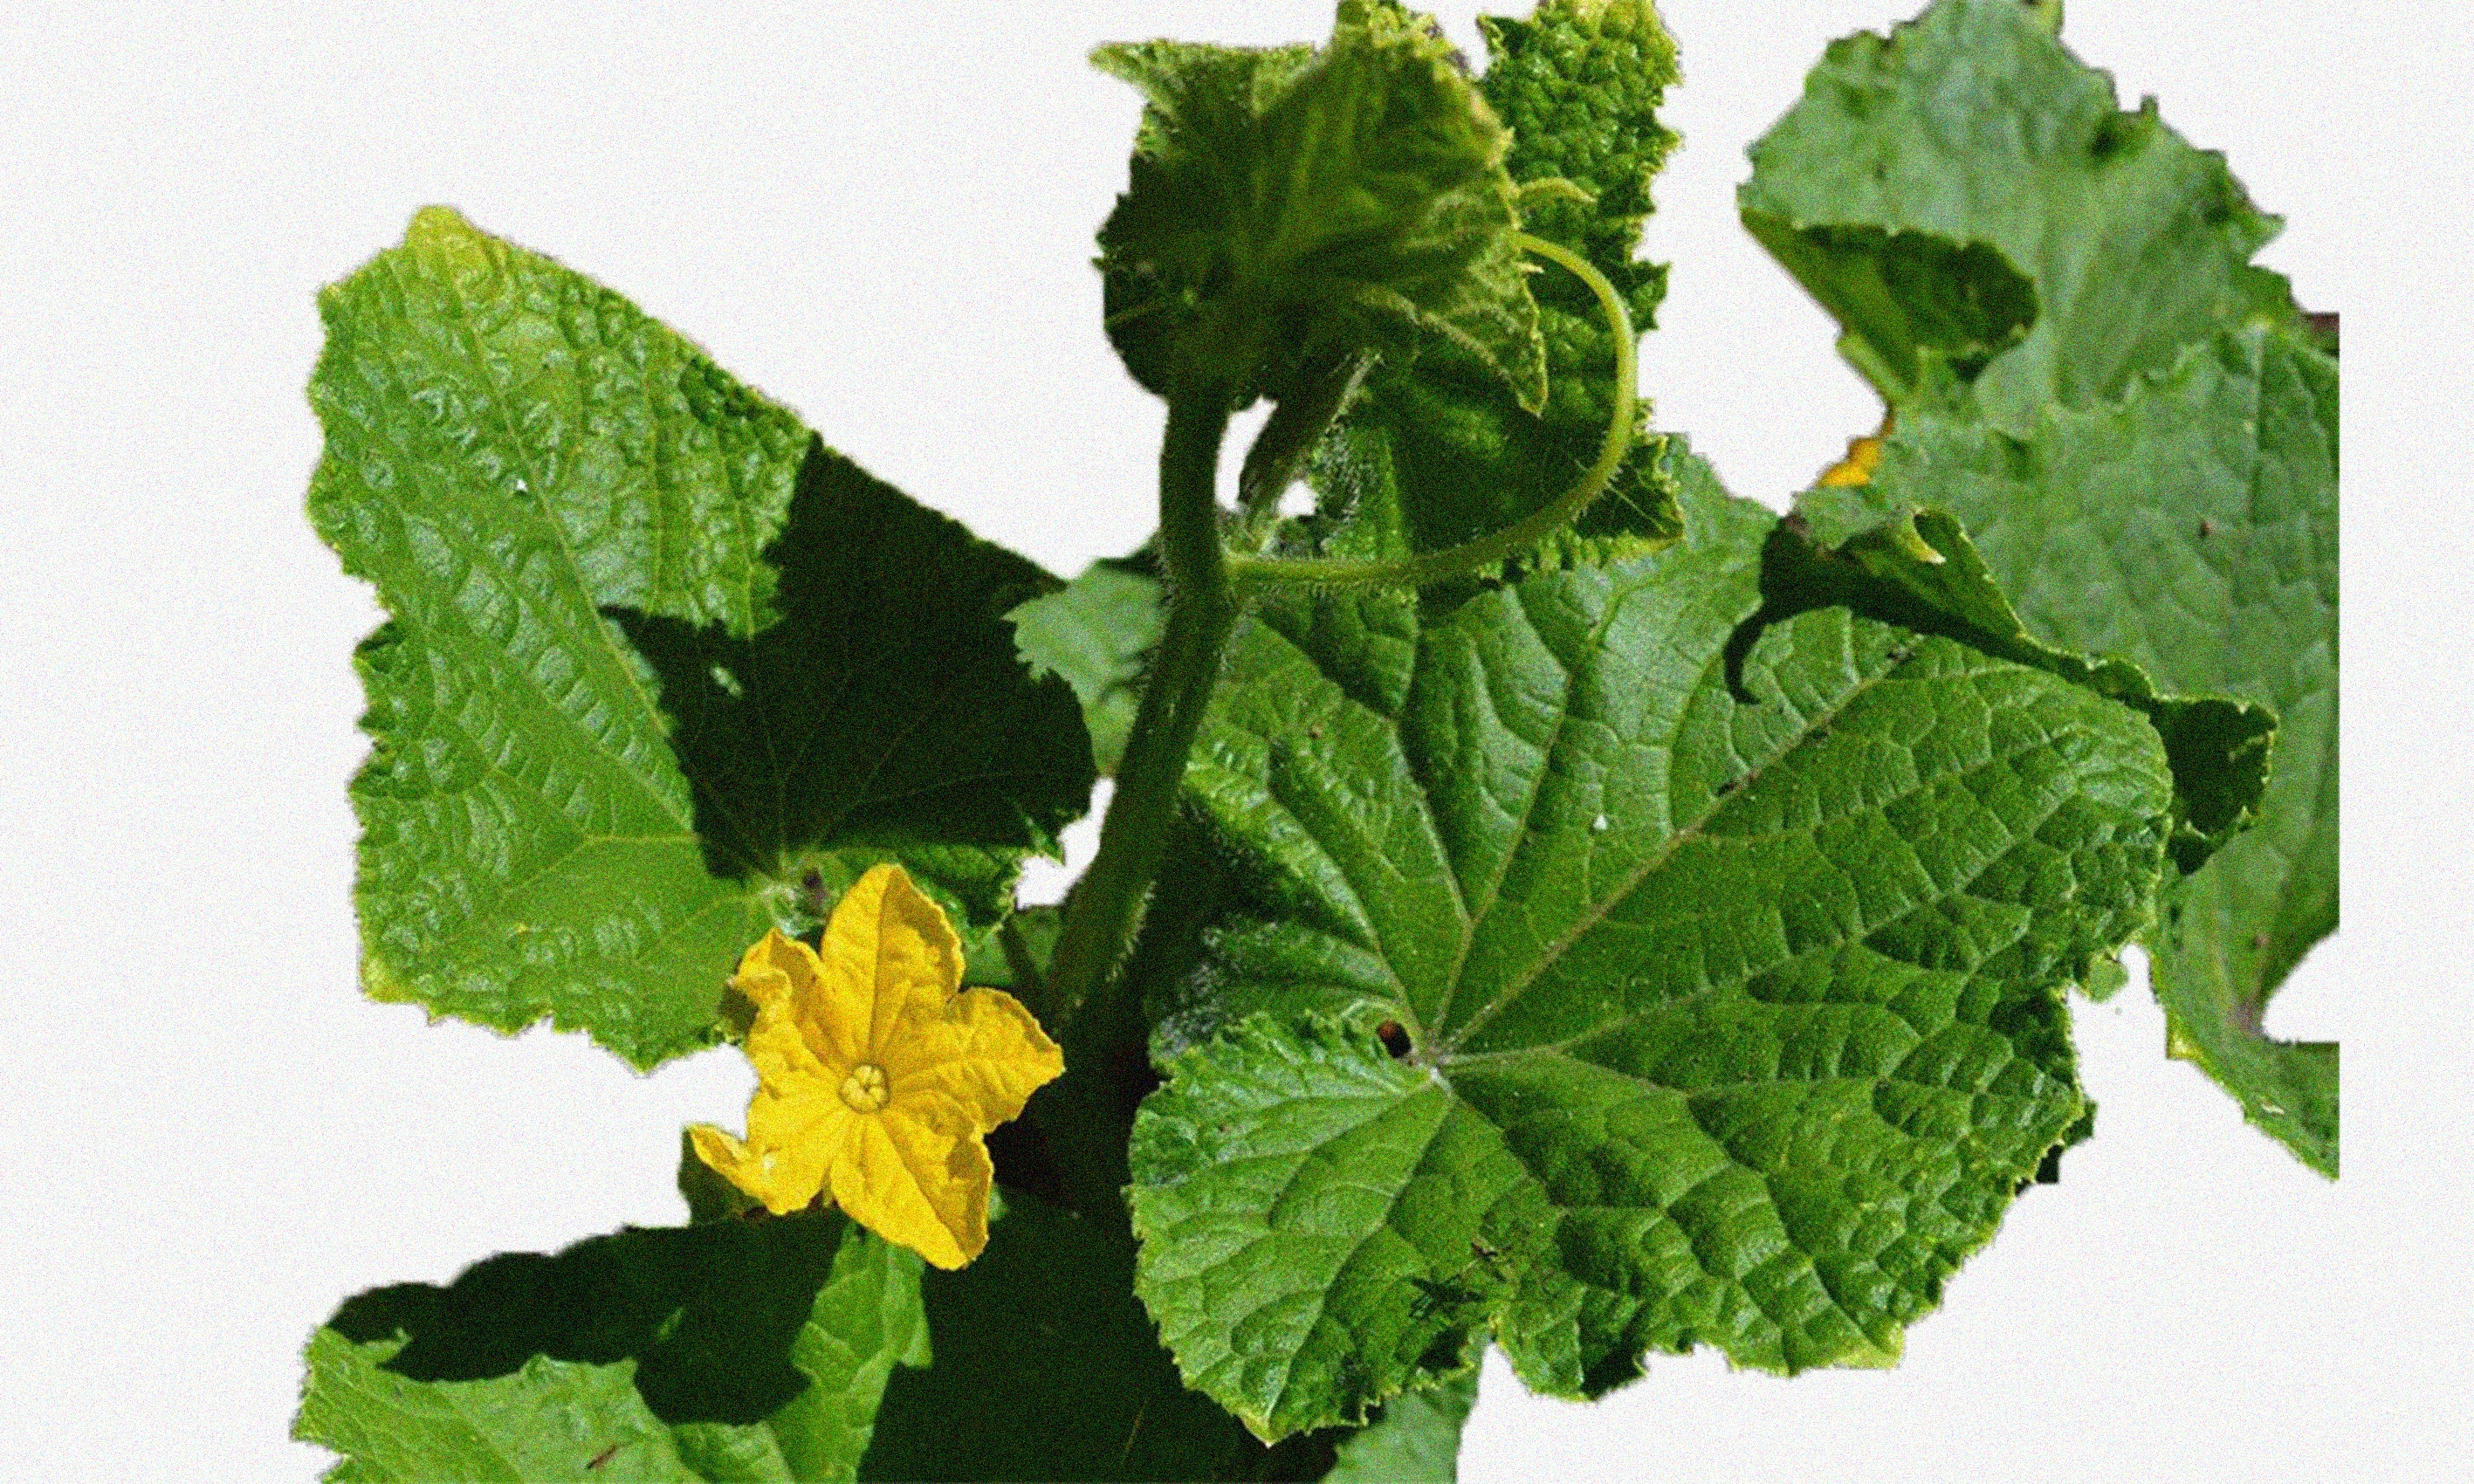cucumber_plant: (298, 198, 2193, 1484)
